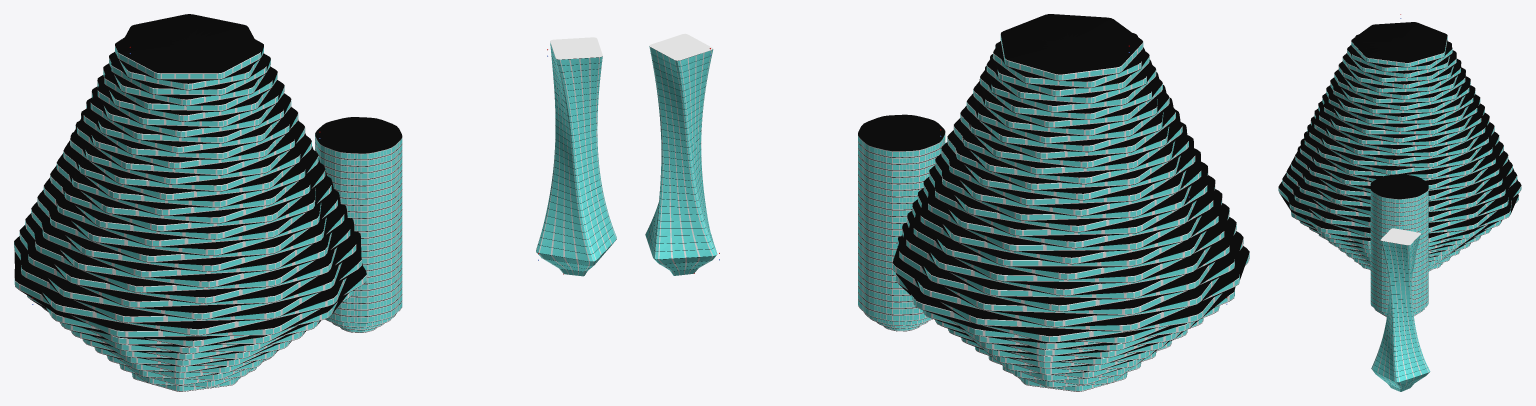
The model's file is GameObject.fbx.
The picture shows the model from 3 angles, left to right: view 1: azimuth 30°, elevation 25°; view 2: azimuth 150°, elevation 25°; view 3: azimuth 270°, elevation 25°; orthographic projection. The views are drawn at different scales.
Visible parts, largest first — view 1: Skyscraper, Skyscraper__1_, Skyscraper__2_; view 2: Skyscraper, Skyscraper__1_, Skyscraper__2_; view 3: Skyscraper, Skyscraper__1_, Skyscraper__2_.
Boxes of the visible parts, bbox=[...] form: Skyscraper: bbox=[14, 14, 366, 391]; Skyscraper__1_: bbox=[315, 117, 402, 332]; Skyscraper__2_: bbox=[536, 37, 616, 276]; Skyscraper: bbox=[892, 14, 1249, 391]; Skyscraper__1_: bbox=[858, 114, 945, 331]; Skyscraper__2_: bbox=[645, 33, 717, 275]; Skyscraper: bbox=[1278, 22, 1521, 271]; Skyscraper__1_: bbox=[1370, 174, 1428, 316]; Skyscraper__2_: bbox=[1371, 228, 1430, 391].
Size of the model in its own units: 28903 by 15826 by 15410.
